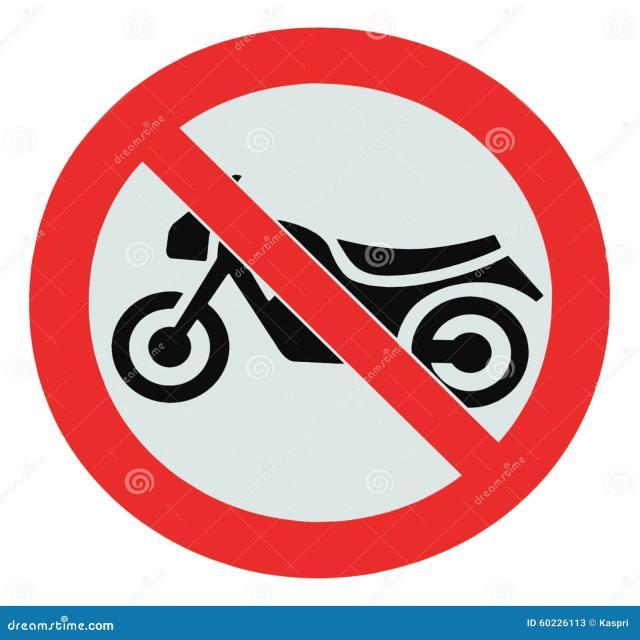all motor vehicle prohibited: (32, 27, 608, 580)
